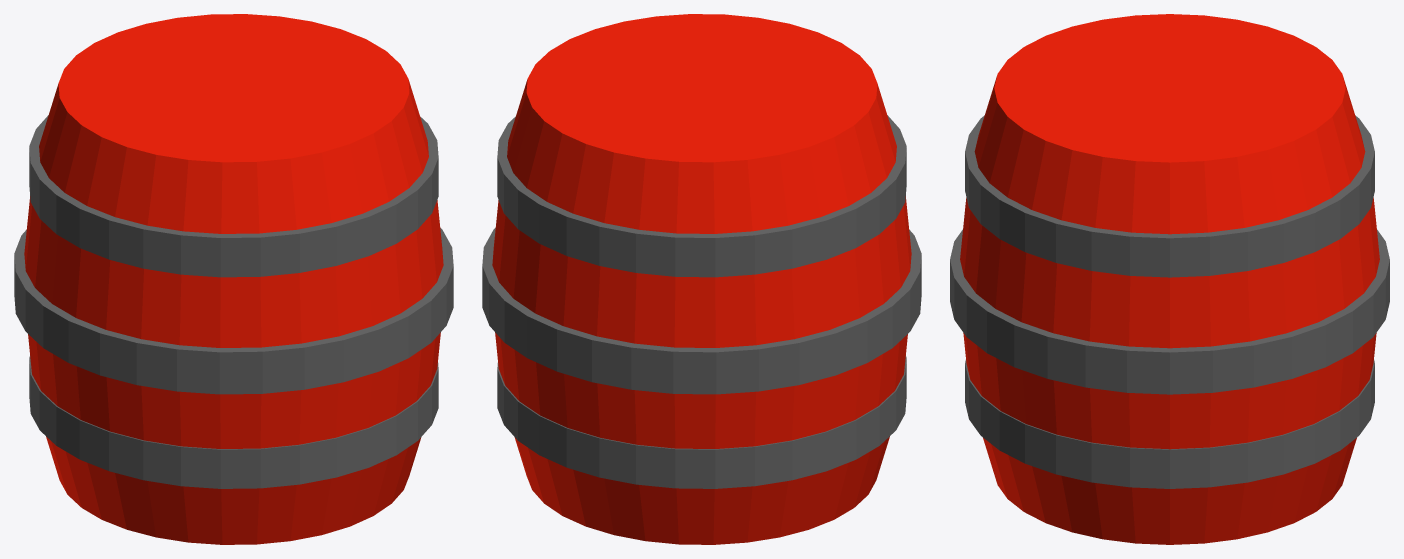
Rendered from tnt.glb.
3 views of the same model, side by side, from view 1: azimuth 30°, elevation 25°; view 2: azimuth 150°, elevation 25°; view 3: azimuth 270°, elevation 25° (orthographic).
Visible parts, largest first — view 1: Cylinder, Cylinder.001, Cylinder.002, Cylinder.003; view 2: Cylinder, Cylinder.001, Cylinder.002, Cylinder.003; view 3: Cylinder, Cylinder.001, Cylinder.002, Cylinder.003.
Part boxes in pixels (x1,y1,x2,y2): Cylinder: (24, 14, 443, 544); Cylinder.001: (14, 228, 453, 394); Cylinder.002: (29, 115, 438, 277); Cylinder.003: (29, 356, 438, 488); Cylinder: (492, 14, 911, 544); Cylinder.001: (482, 228, 921, 394); Cylinder.002: (497, 115, 906, 277); Cylinder.003: (497, 356, 906, 488); Cylinder: (960, 14, 1379, 544); Cylinder.001: (950, 229, 1389, 394); Cylinder.002: (965, 115, 1374, 277); Cylinder.003: (965, 360, 1374, 488).
Size of the model in its own units: 5.1 by 4.89 by 5.1.
2 materials, 1 textured.
